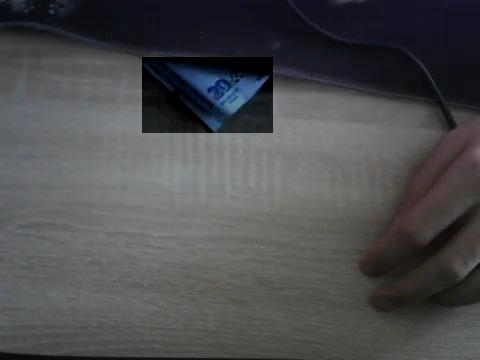20leva: (142, 57, 273, 133)
